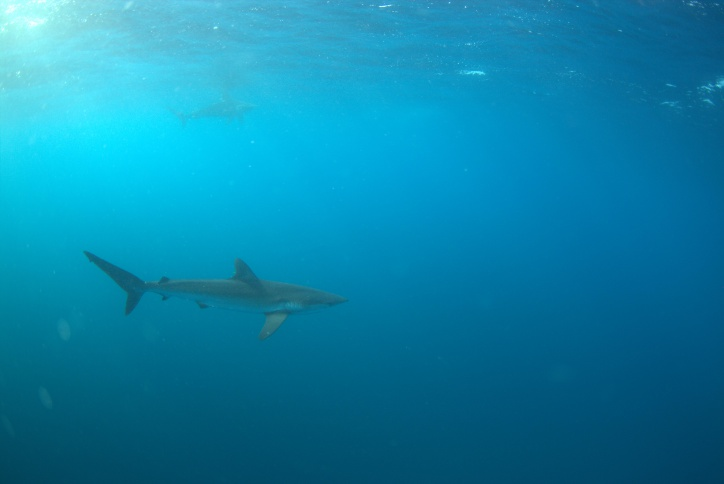Sedoso: (68, 241, 363, 347)
